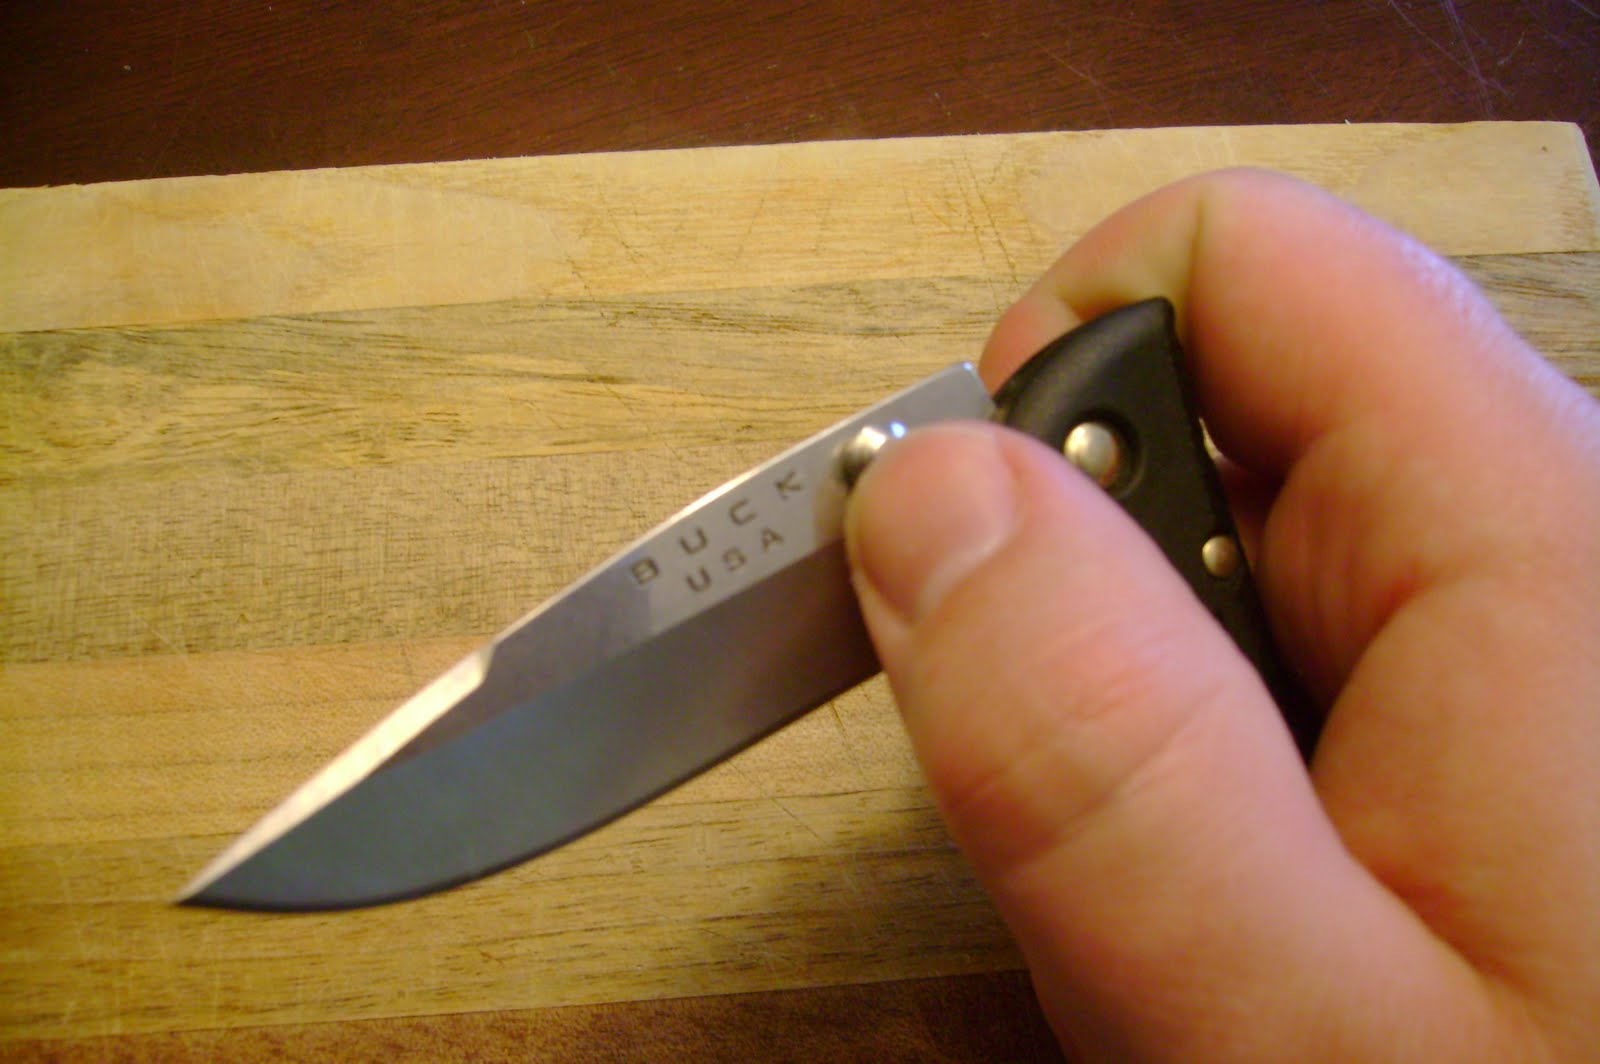knife: (138, 262, 1193, 927)
